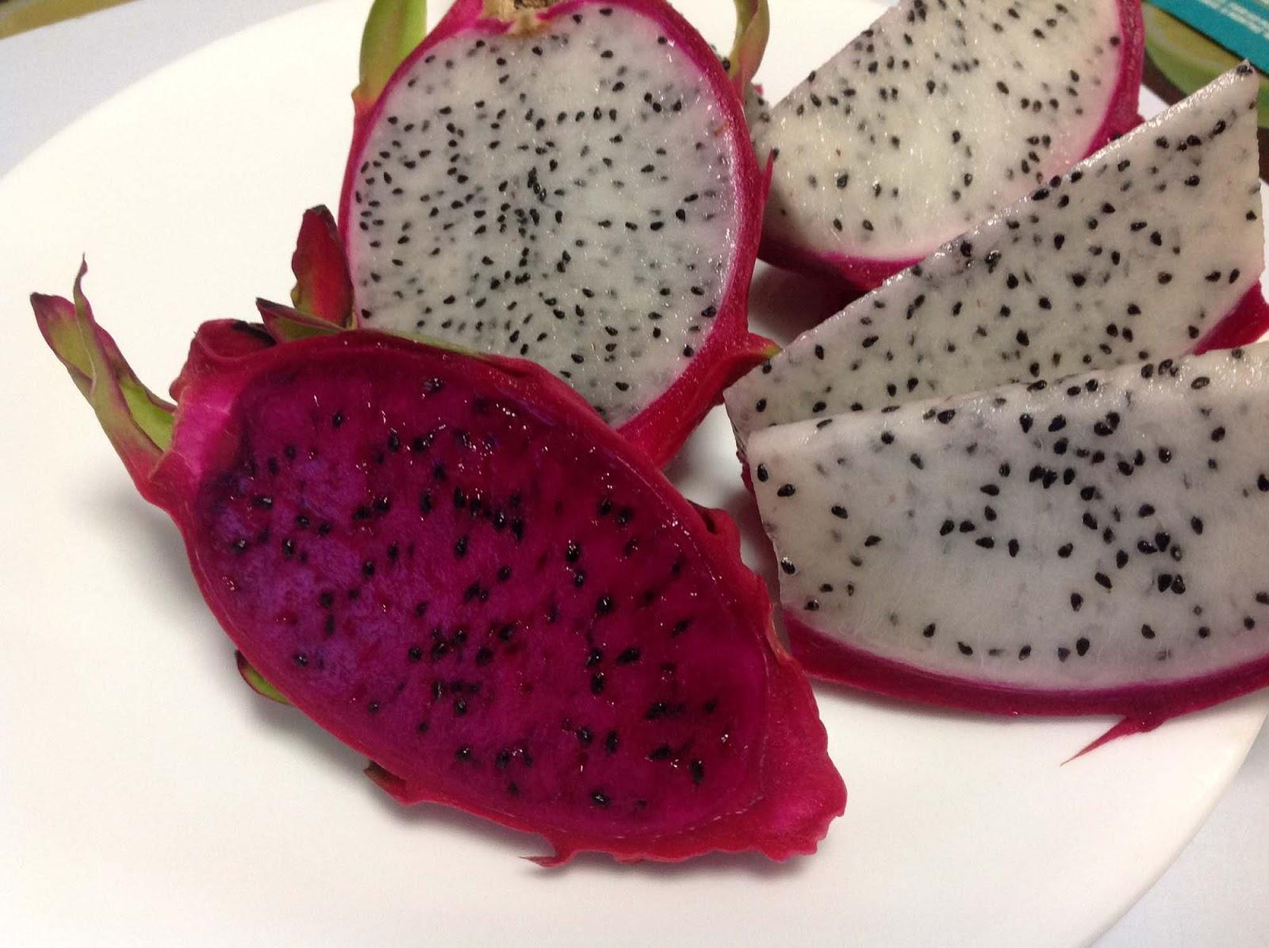dragon-fruit: (174, 325, 787, 857), (719, 56, 1269, 497), (335, 0, 770, 469), (742, 338, 1269, 722), (745, 0, 1149, 293)
